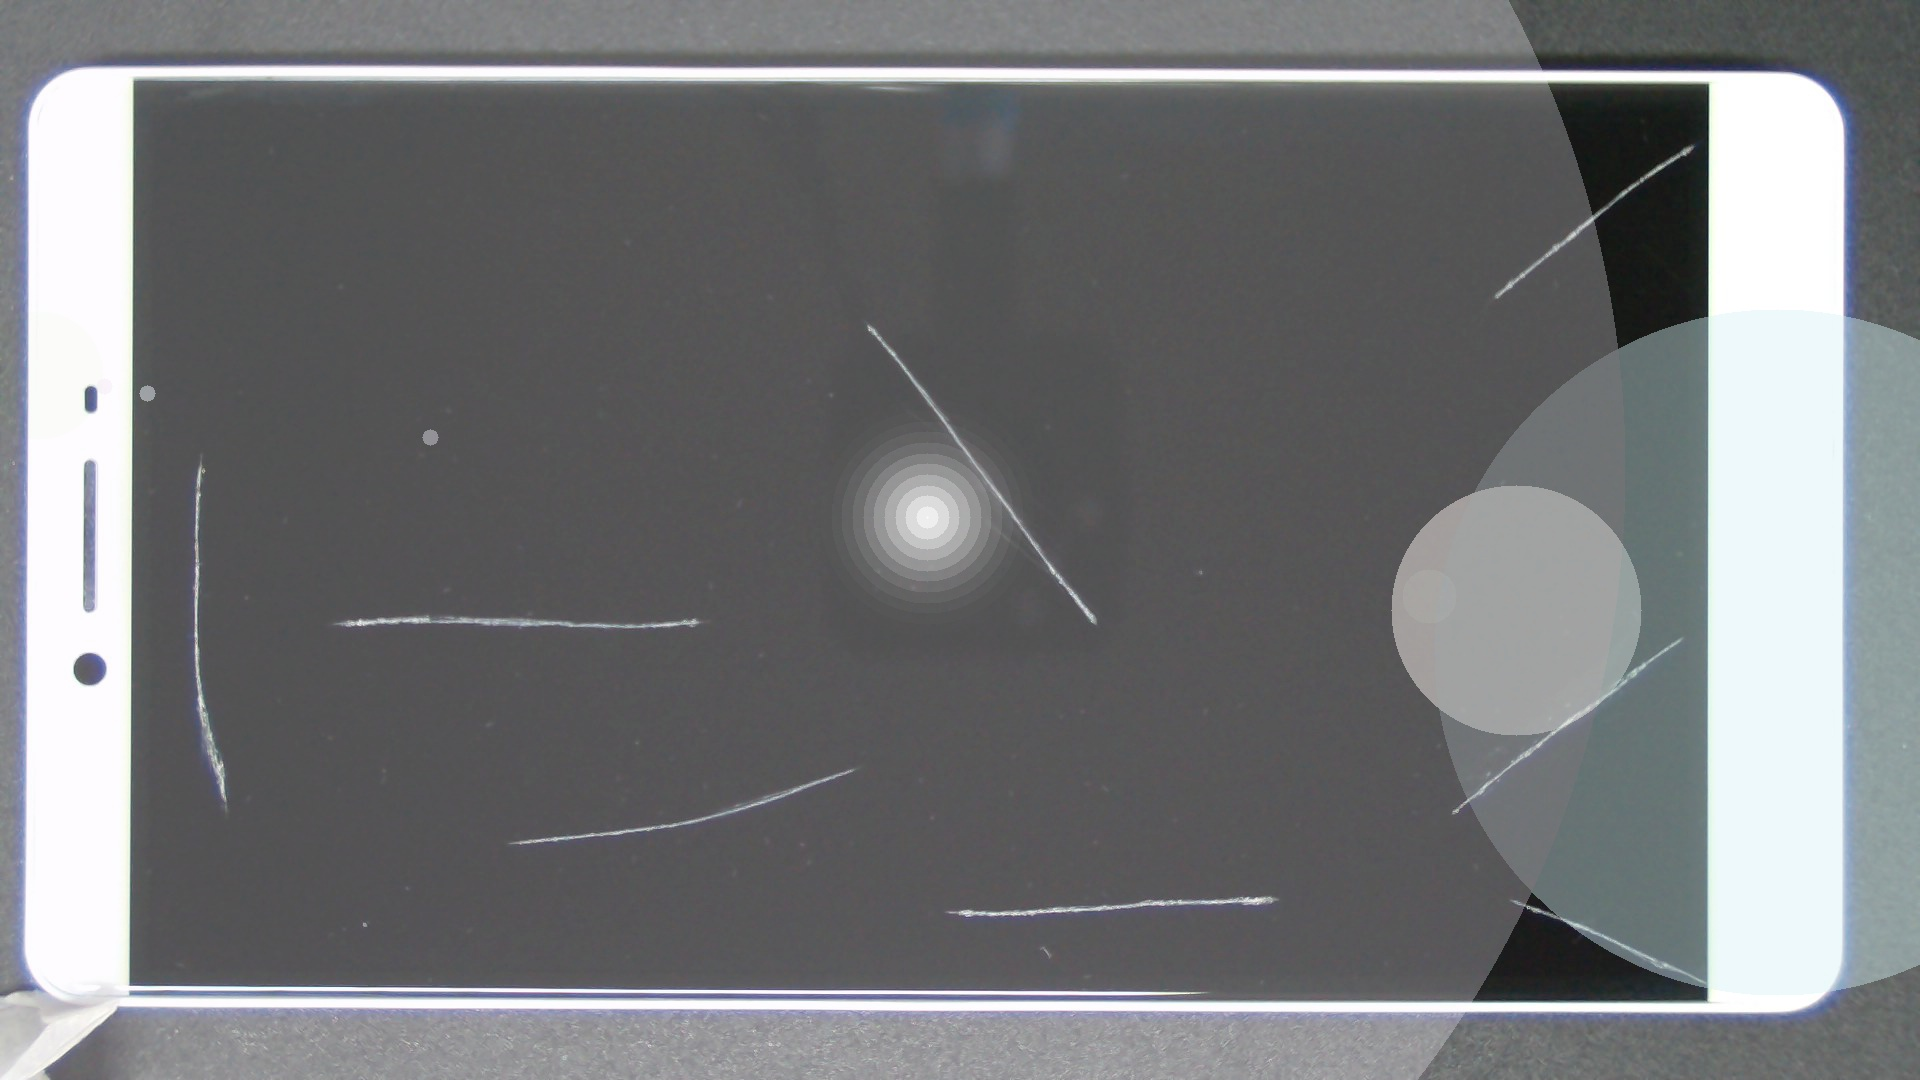oil: (634, 447, 1900, 1080), (754, 447, 1920, 1080), (843, 316, 1920, 953), (427, 384, 1279, 1080), (433, 161, 1299, 485), (212, 306, 636, 922), (848, 70, 1920, 212), (100, 227, 301, 682)
